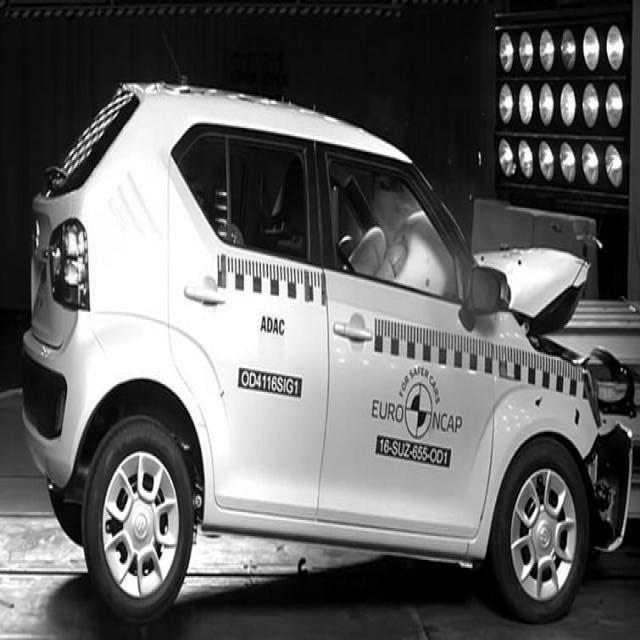bonnet-dent: (483, 250, 583, 365)
front-bumper-dent: (584, 425, 628, 555)
